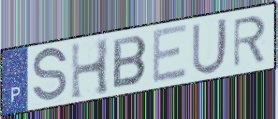B: (111, 34, 150, 91)
E: (151, 22, 189, 87)
H: (69, 37, 111, 103)
R: (231, 13, 268, 70)
S: (31, 44, 70, 106)
U: (191, 15, 230, 76)
